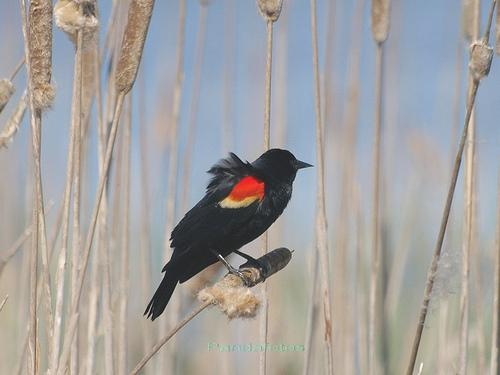010.Red_winged_Blackbird: (143, 146, 312, 323)
